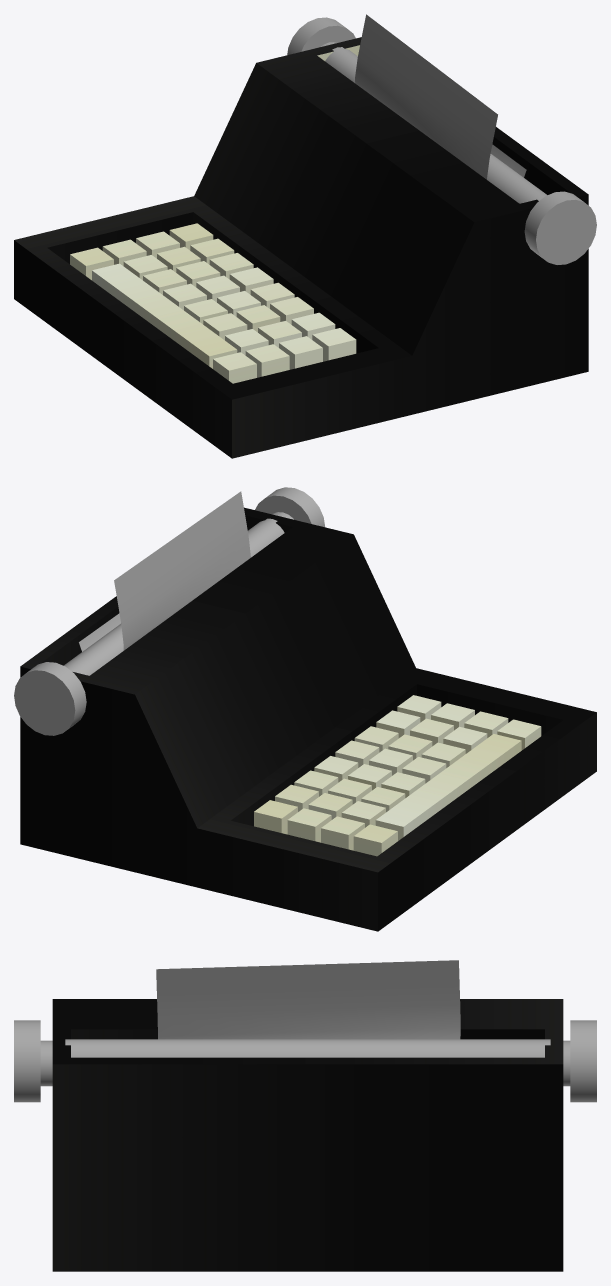
Rendered from maquinaescribircontextura.fbx.
3 views of the same model, one above another, from view 1: azimuth 30°, elevation 25°; view 2: azimuth 150°, elevation 25°; view 3: azimuth 270°, elevation 25° (orthographic). The views are drawn at different scales.
Visible parts, largest first — view 1: _UNKNOWN_REF_NODE_fosterParent2; view 2: _UNKNOWN_REF_NODE_fosterParent2; view 3: _UNKNOWN_REF_NODE_fosterParent2.
Boxes of the visible parts, bbox=[...] form: _UNKNOWN_REF_NODE_fosterParent2: bbox=[14, 14, 596, 458]; _UNKNOWN_REF_NODE_fosterParent2: bbox=[14, 487, 596, 931]; _UNKNOWN_REF_NODE_fosterParent2: bbox=[14, 960, 596, 1271].
Size of the model in its own units: 7.1 by 4.61 by 8.59.
Materials: 3 (2 with a texture image).
